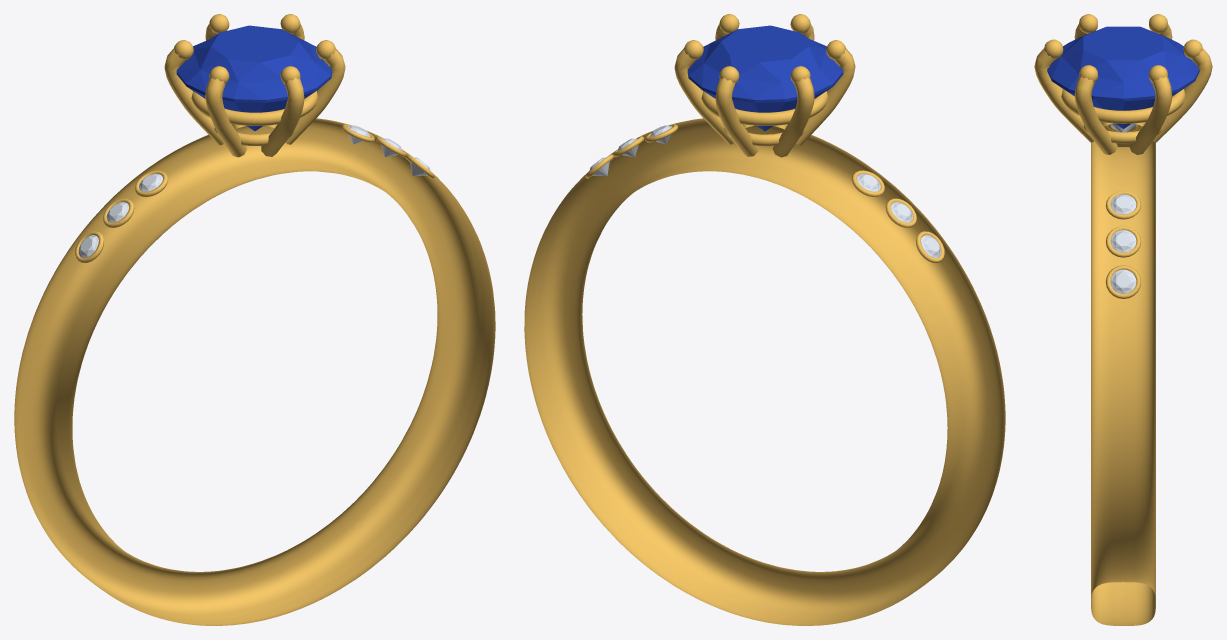
File: canteli-premium-anillo.glb
3 views of the same model, side by side, from view 1: azimuth 30°, elevation 25°; view 2: azimuth 150°, elevation 25°; view 3: azimuth 270°, elevation 25° (orthographic). The views are drawn at different scales.
Visible parts, largest first — view 1: anillo; view 2: anillo; view 3: anillo.
Boxes of the visible parts, x1=… form: anillo: x1=14, y1=14, x2=495, y2=625; anillo: x1=524, y1=14, x2=1005, y2=625; anillo: x1=1034, y1=14, x2=1212, y2=625.
Size of the model in its own units: 0.022 by 0.026 by 0.00749.
